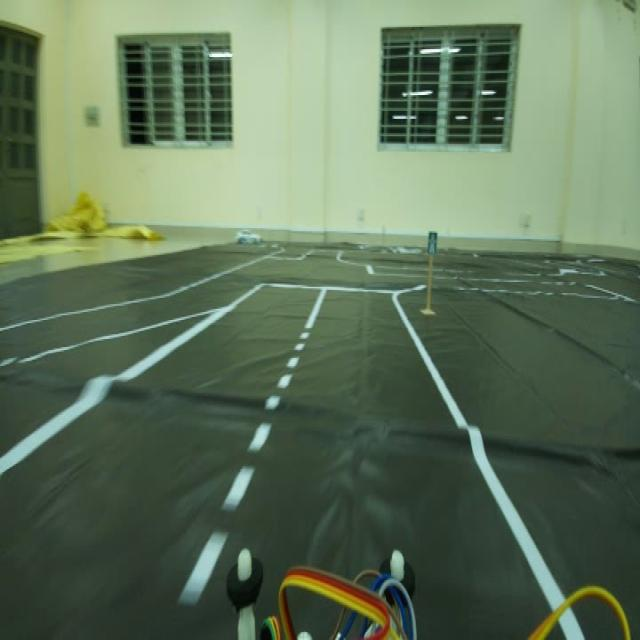highway_entry: (423, 224, 438, 258)
